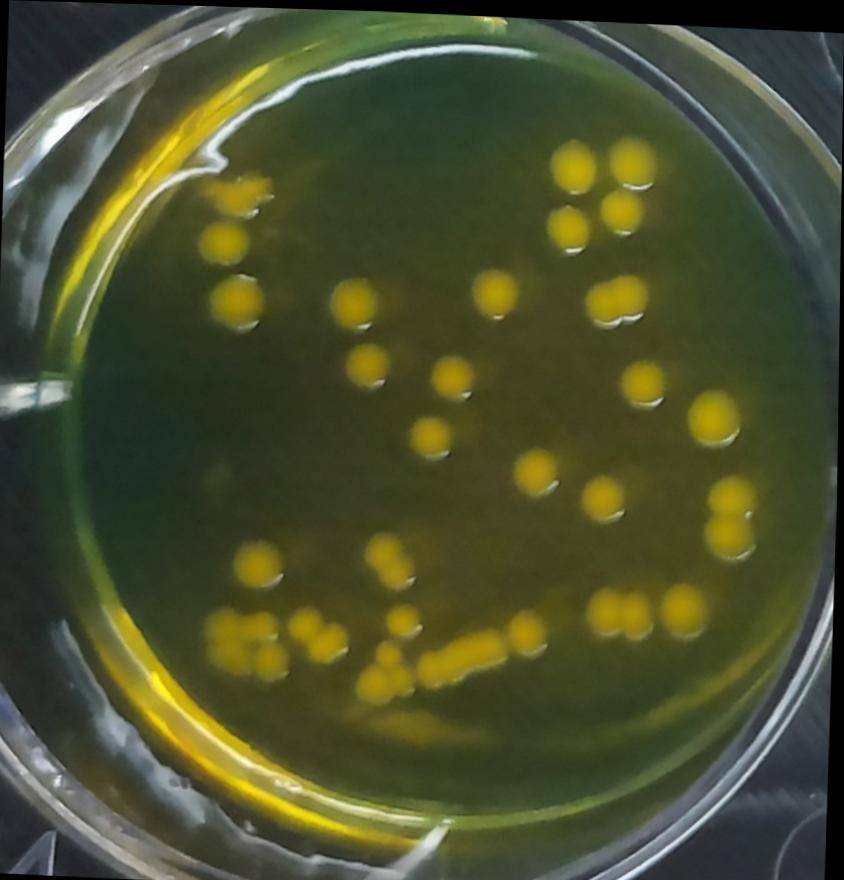vharveyi: (570, 257, 658, 333), (354, 513, 427, 595), (205, 262, 273, 339), (459, 253, 526, 324), (320, 261, 384, 334), (339, 329, 397, 393)
